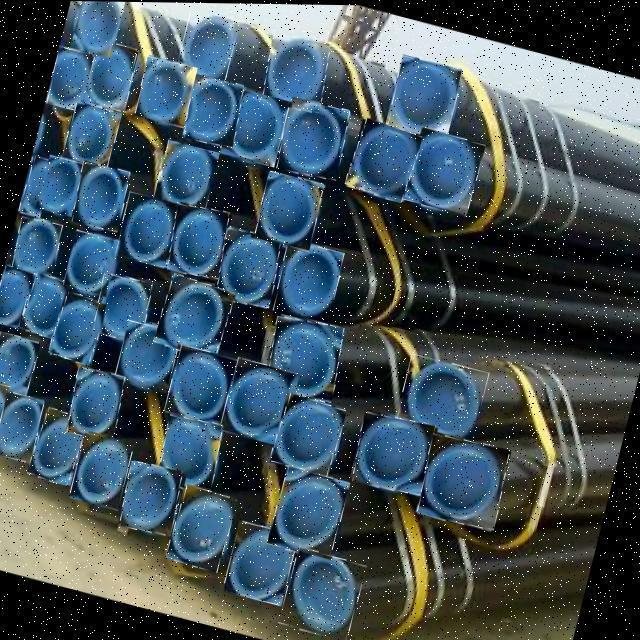pipe: (393, 353, 488, 450), (417, 432, 509, 528), (278, 546, 366, 640), (267, 464, 350, 560), (402, 125, 485, 215), (153, 273, 235, 360), (352, 410, 435, 493), (219, 357, 296, 445), (344, 116, 422, 201), (265, 316, 342, 402), (269, 391, 346, 476), (386, 54, 461, 140), (165, 484, 237, 572), (164, 344, 240, 426), (223, 521, 297, 605), (272, 240, 343, 323), (276, 98, 348, 179), (220, 87, 289, 166), (255, 171, 324, 249), (262, 33, 329, 112), (174, 7, 240, 87), (215, 227, 281, 305), (157, 414, 222, 492), (152, 139, 219, 214), (70, 432, 133, 510), (115, 191, 179, 267), (27, 407, 88, 485), (115, 320, 180, 392), (167, 203, 229, 278), (120, 462, 182, 535), (48, 291, 108, 365), (135, 56, 197, 126), (184, 75, 244, 146), (66, 368, 124, 441), (61, 101, 121, 171), (80, 39, 137, 111), (93, 273, 152, 341), (71, 162, 129, 231), (63, 230, 119, 295), (19, 273, 72, 339), (70, 1, 125, 57), (0, 392, 43, 463), (46, 47, 93, 111), (36, 154, 84, 216), (11, 217, 61, 276), (0, 331, 40, 397), (18, 156, 54, 217), (0, 265, 33, 328)
